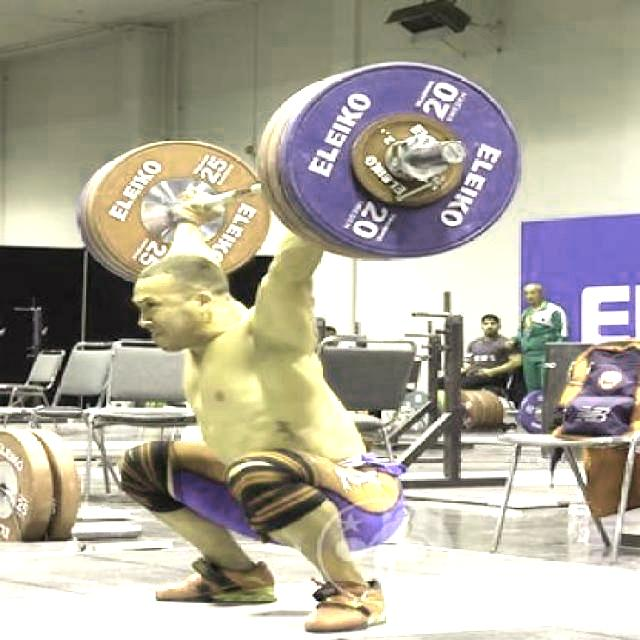barbell: (283, 58, 525, 261)
